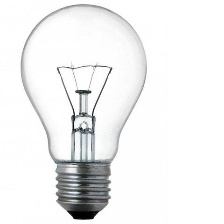light_bulb: (18, 2, 153, 221)
